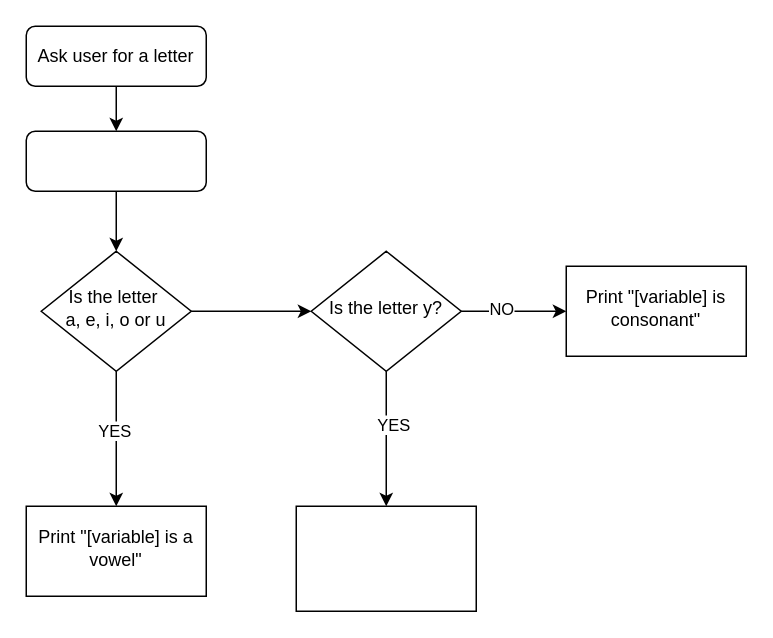
The diagram is 773 pixels wide and 638 high, and some of its shapes have lost their labels. The shapes that lost their labels are listed below. From the top down, each one's centre as x and y in pixels, then its label:
[115,160]: Assign the letter to a variable
[385,558]: Print "[variable] is sometimes a vowel and sometimes a consonant"
